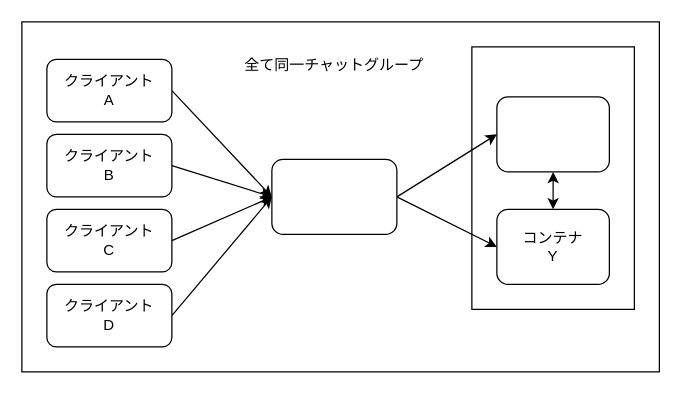
The diagram is 681 pixels wide and 394 high, and some of its shapes have lost their labels. The shapes that lost their labels are listed below. From the top down, each one's box as (x1, y1, x2, y2) in pixels, then its label:
(496, 96, 609, 172): コンテナ X
(271, 158, 397, 234): ロード バランサー
(471, 46, 634, 309): クラスター
